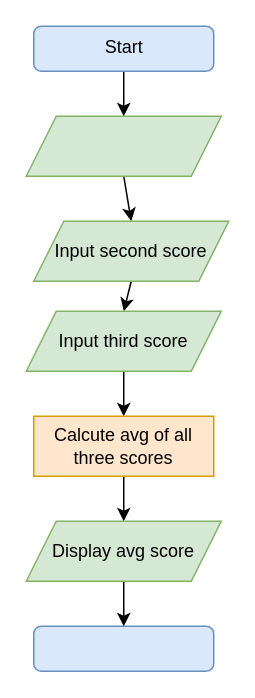
This 255x698 diagram has some shape labels left out. The box of each missing label's shape, as (x1, y1, x2, y2) in pixels:
End: (32, 625, 214, 671)
Input first score: (25, 115, 221, 176)
